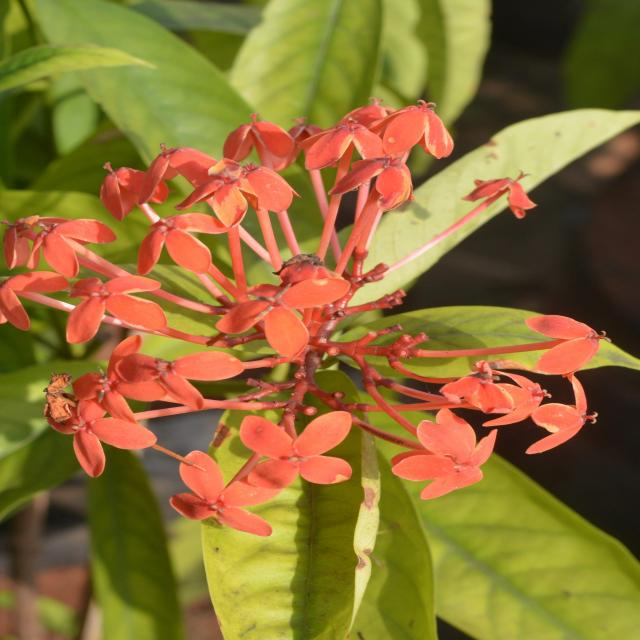Chinese-Ixora: (14, 101, 593, 532)
